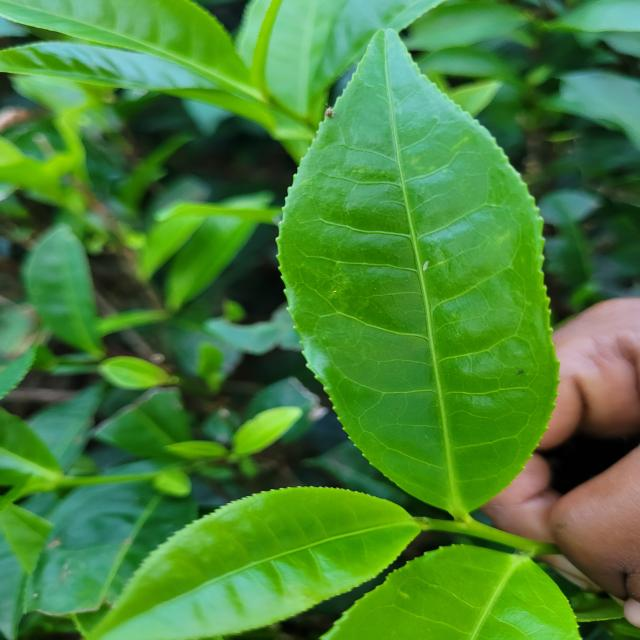Catagory A(1-2 days): (56, 460, 446, 639)
